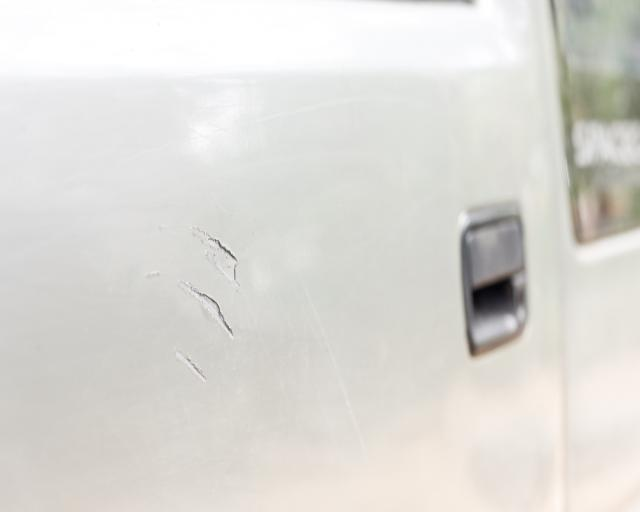scratch: (148, 213, 240, 390)
